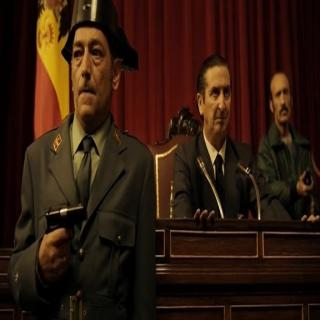gun: (40, 188, 97, 288)
